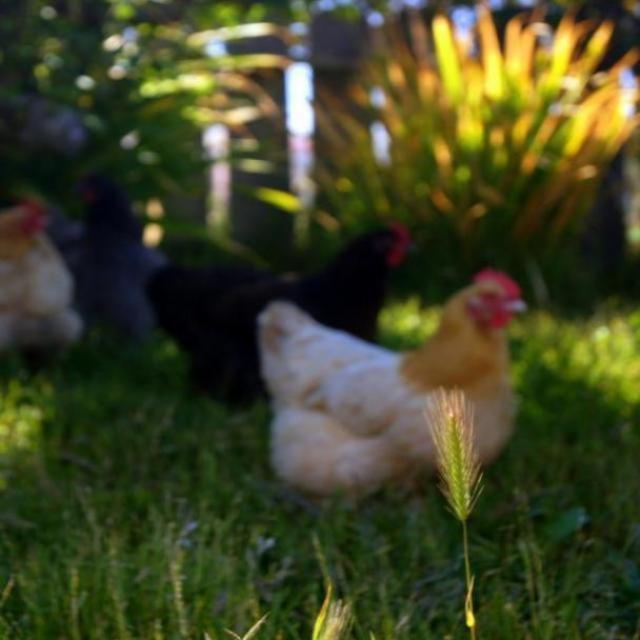Chicken: (247, 264, 545, 516), (140, 219, 407, 407)
